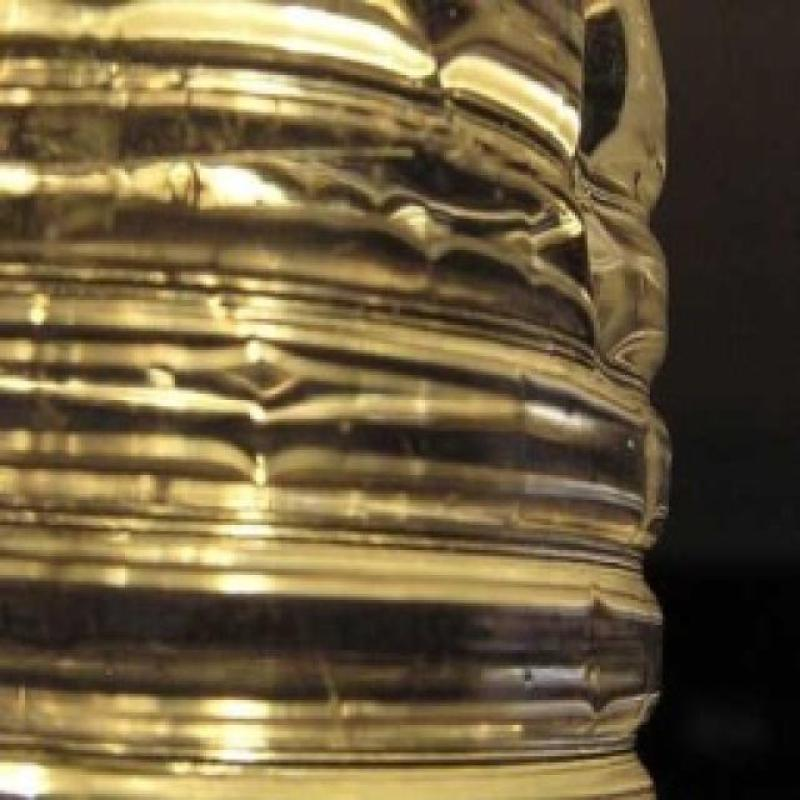botella: (0, 0, 672, 800)
